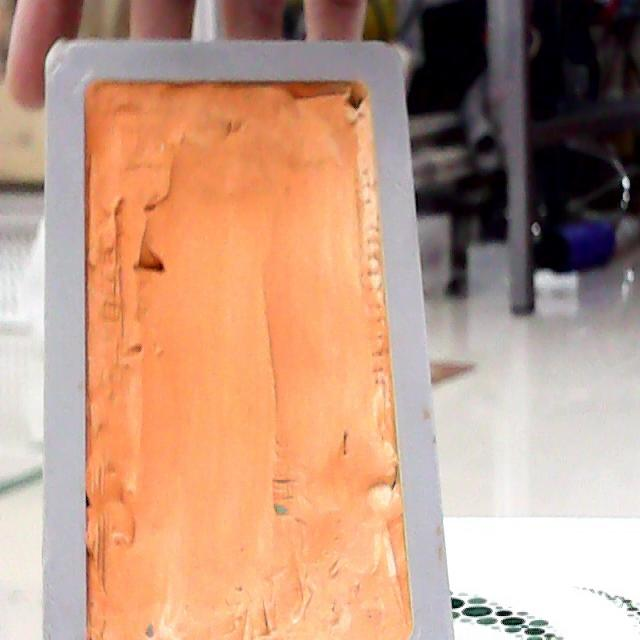block: (20, 34, 456, 640)
